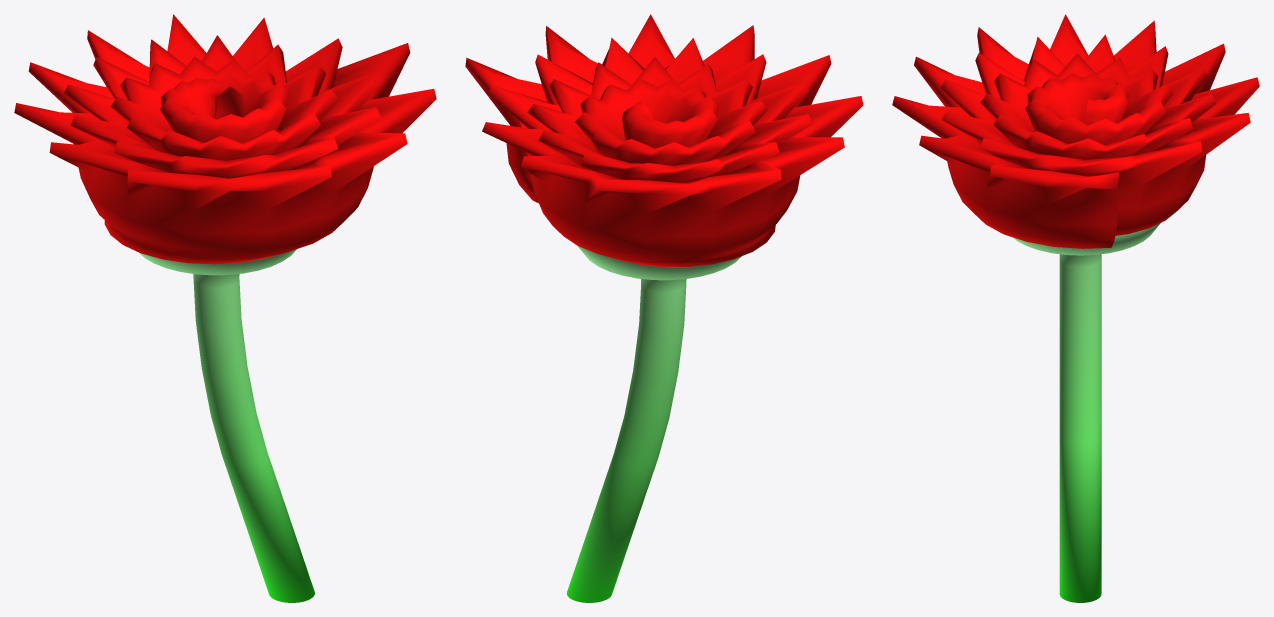
File: flower_001.fbx
The picture shows the model from 3 angles, left to right: view 1: azimuth 30°, elevation 25°; view 2: azimuth 150°, elevation 25°; view 3: azimuth 270°, elevation 25°; orthographic projection. The views are drawn at different scales.
Parts seen in each view (by area): view 1: Circle.001; view 2: Circle.001; view 3: Circle.001.
Boxes of the visible parts, x1,y1,x2,y2 form: Circle.001: (14, 14, 436, 602); Circle.001: (465, 14, 863, 602); Circle.001: (892, 14, 1259, 602).
Bounding box in the file's own units: 15.45 × 20.5 × 14.54.
Materials: 2 (1 with a texture image).
